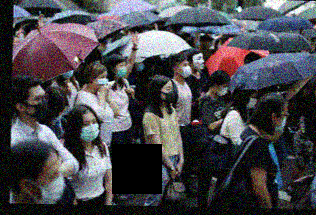with_mask: (35, 166, 67, 205), (26, 92, 50, 119), (79, 116, 100, 143), (275, 110, 289, 135), (160, 85, 175, 104), (94, 73, 109, 90), (192, 54, 206, 72), (179, 62, 192, 79), (115, 62, 127, 79), (246, 93, 258, 110), (217, 83, 229, 97)
